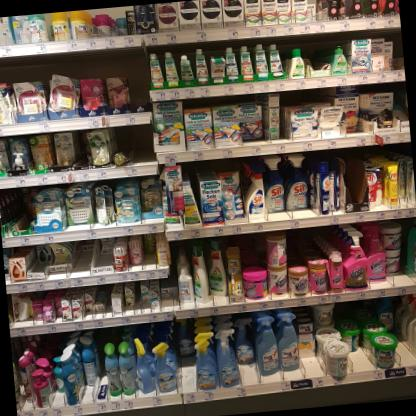empty_space: (339, 146, 370, 213), (122, 47, 152, 115), (131, 124, 155, 165), (389, 28, 405, 70), (101, 283, 113, 317), (132, 280, 143, 314)
